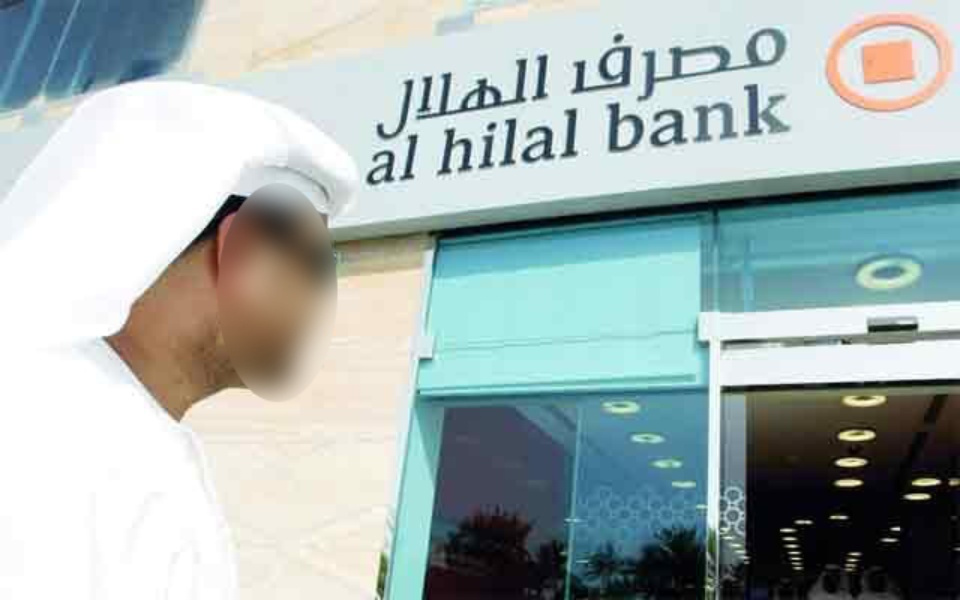text: (401, 52, 416, 145), (417, 52, 432, 145), (433, 52, 448, 145), (449, 52, 464, 145), (465, 52, 480, 145), (481, 52, 496, 145), (497, 52, 512, 145), (513, 52, 528, 145), (529, 52, 544, 145), (577, 22, 592, 113), (593, 22, 608, 113), (609, 22, 624, 113), (625, 22, 640, 113), (641, 22, 656, 113), (657, 22, 672, 113), (673, 22, 688, 113), (689, 22, 704, 113), (705, 22, 720, 113), (721, 22, 736, 113), (737, 22, 752, 113), (753, 22, 768, 113), (769, 22, 784, 113), (609, 80, 624, 155), (625, 80, 640, 155), (641, 80, 656, 155), (657, 80, 672, 155), (673, 80, 688, 155), (689, 80, 704, 155), (705, 80, 720, 155), (721, 80, 736, 155), (737, 80, 752, 155), (753, 80, 768, 155), (769, 80, 784, 155), (388, 52, 400, 145), (449, 104, 464, 178), (465, 104, 480, 178), (481, 104, 496, 178), (497, 104, 512, 178), (513, 104, 528, 178), (529, 104, 544, 178), (545, 104, 560, 178), (561, 104, 576, 178), (385, 130, 400, 190), (401, 130, 416, 190), (371, 130, 384, 190), (545, 52, 553, 145), (577, 104, 584, 178), (785, 22, 790, 113), (417, 130, 424, 190), (785, 80, 790, 155), (443, 104, 448, 178), (572, 22, 576, 113), (607, 80, 608, 155)
